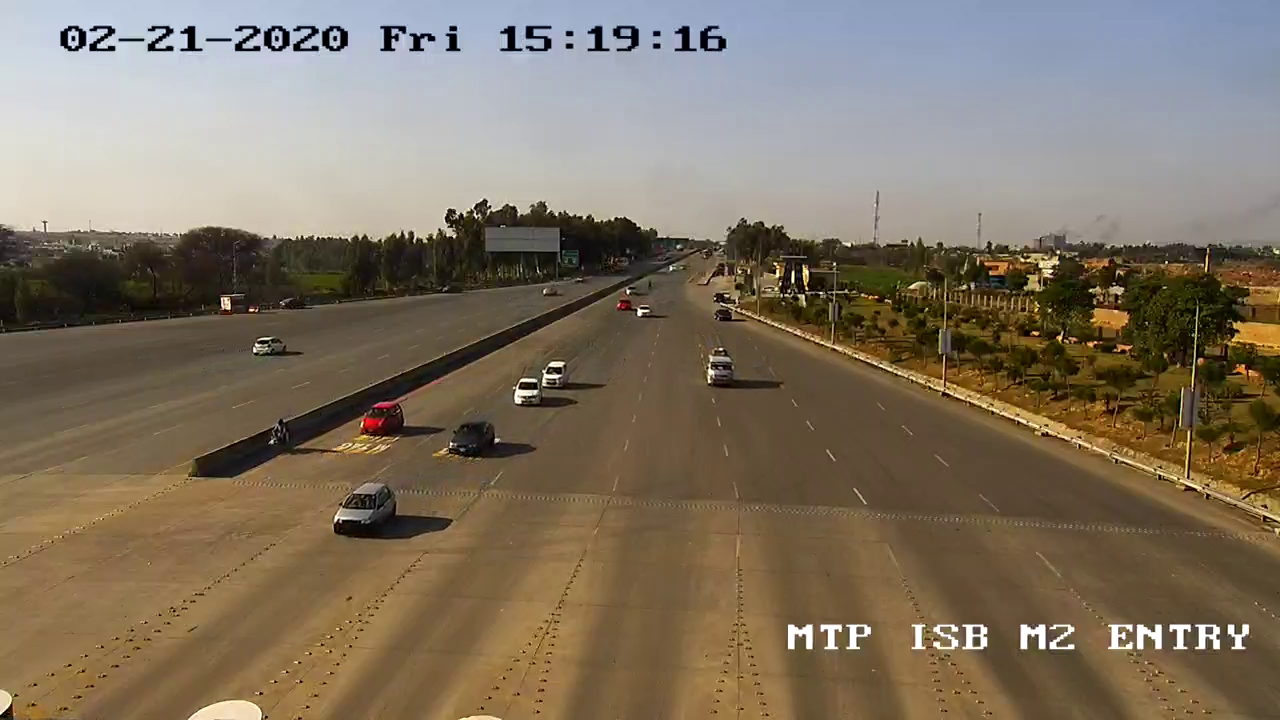f1: (320, 477, 403, 543), (441, 413, 500, 464)
